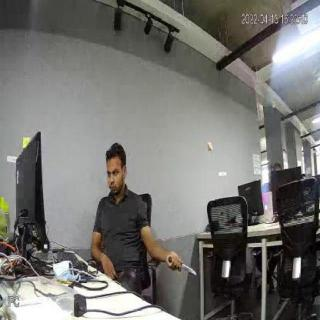knife: (170, 250, 197, 282)
